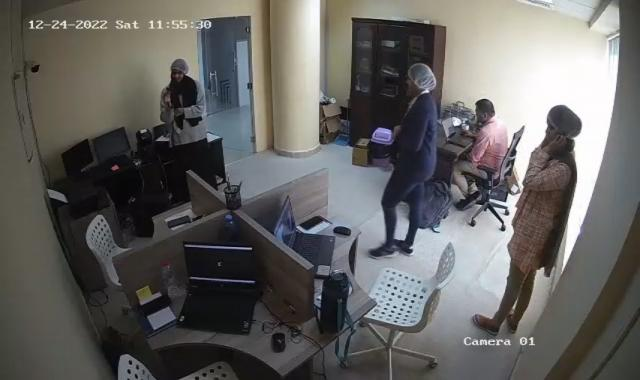hairnet: (543, 104, 581, 143), (402, 62, 438, 94), (168, 60, 193, 83)
no_hairnet: (473, 97, 496, 127)
